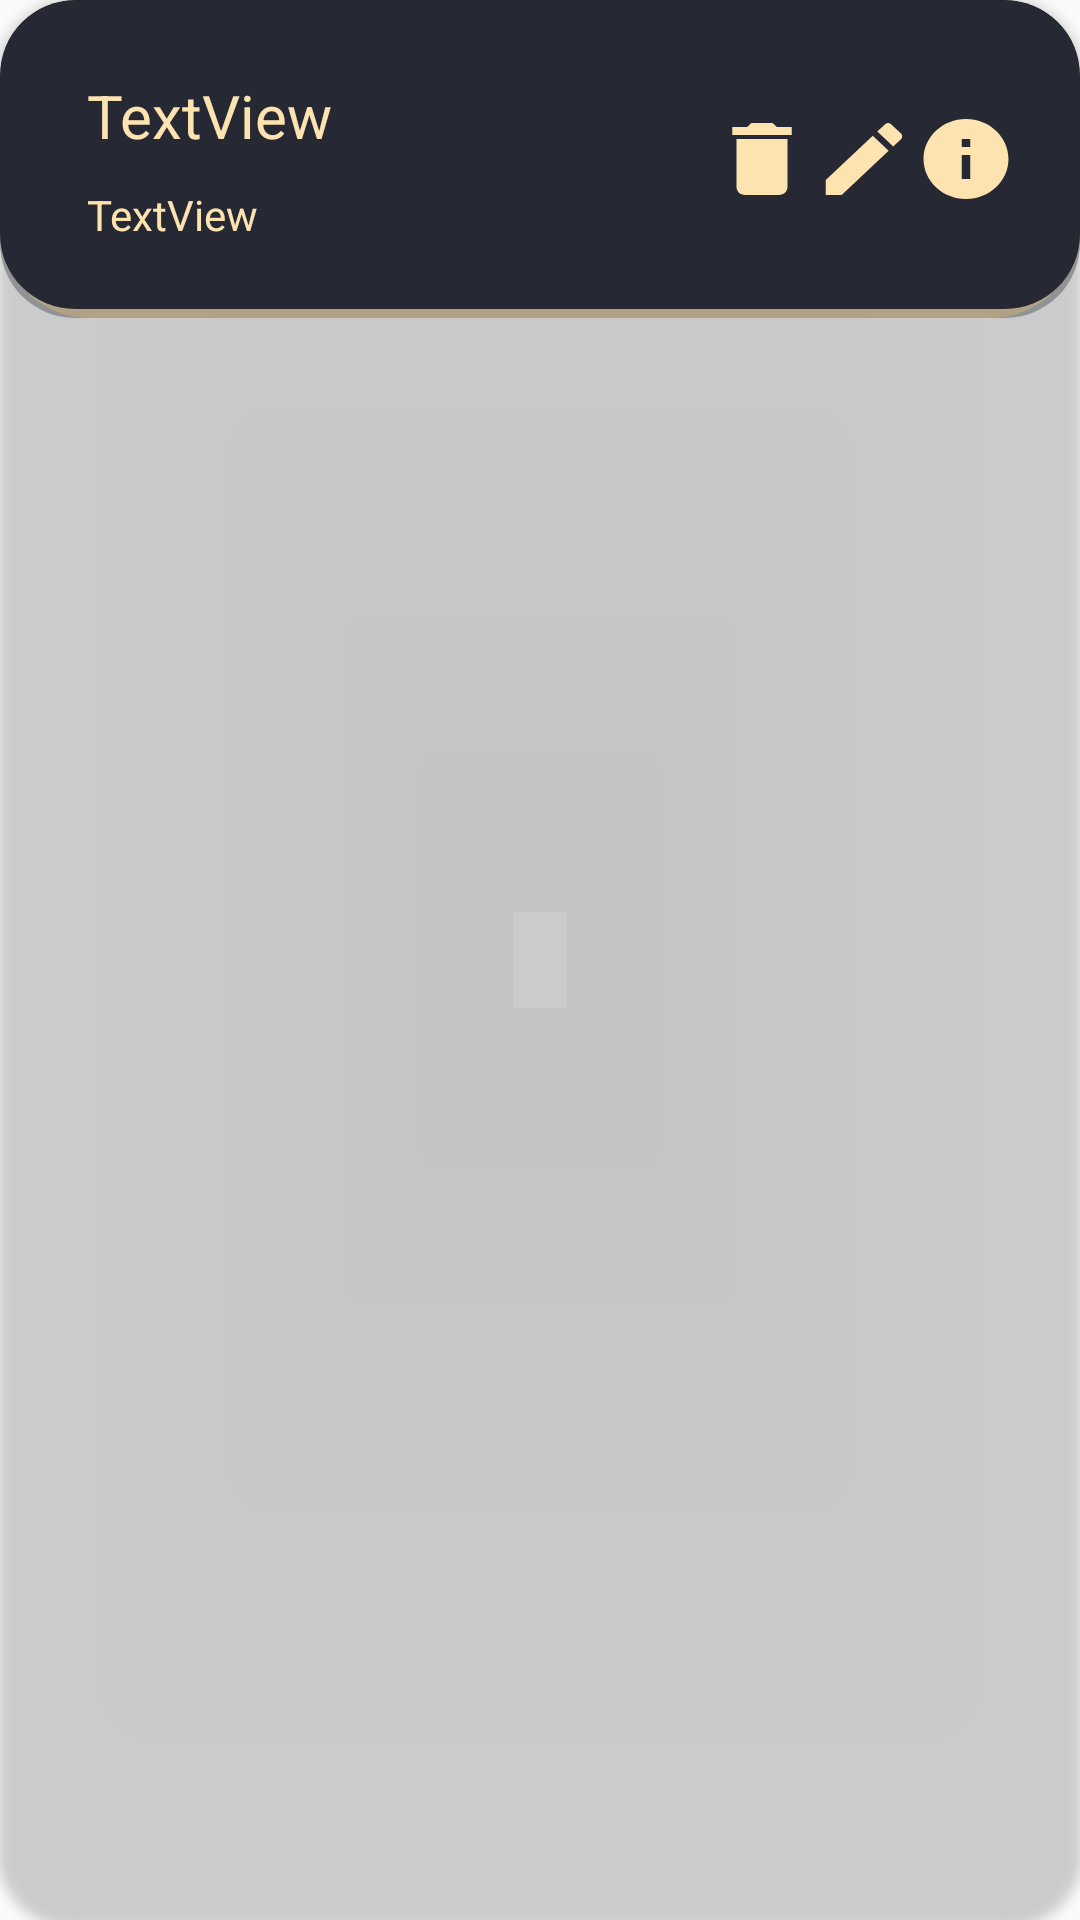

Point at icon controls on the screen. Image size 1080w x 1920h, points as [x,y].
create: [864,159]
delete: [762,159]
info: [966,159]
